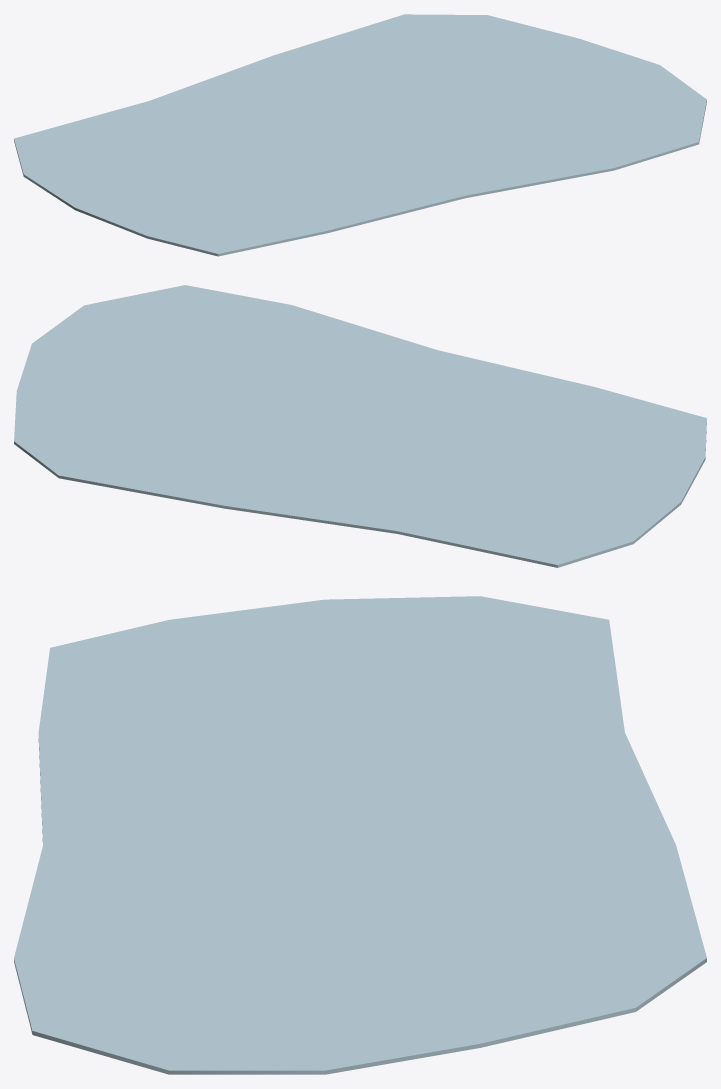
The model's file is Mountain_Ice.fbx.
3 views of the same model, one above another, from view 1: azimuth 30°, elevation 25°; view 2: azimuth 150°, elevation 25°; view 3: azimuth 270°, elevation 25° (orthographic). The views are drawn at different scales.
Parts seen in each view (by area): view 1: pCube2; view 2: pCube2; view 3: pCube2.
Part boxes in pixels (x1=…): pCube2: x1=14, y1=14, x2=706, y2=256; pCube2: x1=14, y1=285, x2=706, y2=567; pCube2: x1=14, y1=596, x2=706, y2=1074.
Bounding box in the file's own units: 7.95 × 0.0325 × 4.91.
